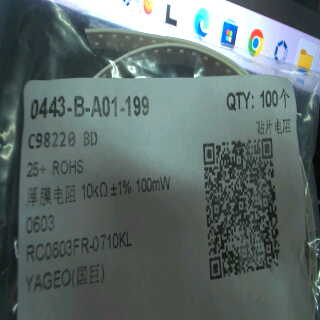10kR: (79, 179, 109, 202)
